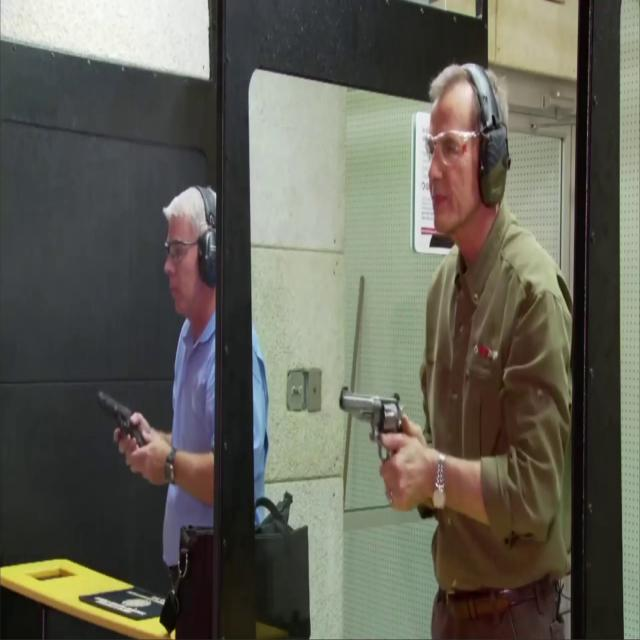Gun: (338, 384, 408, 478), (94, 386, 146, 459)
